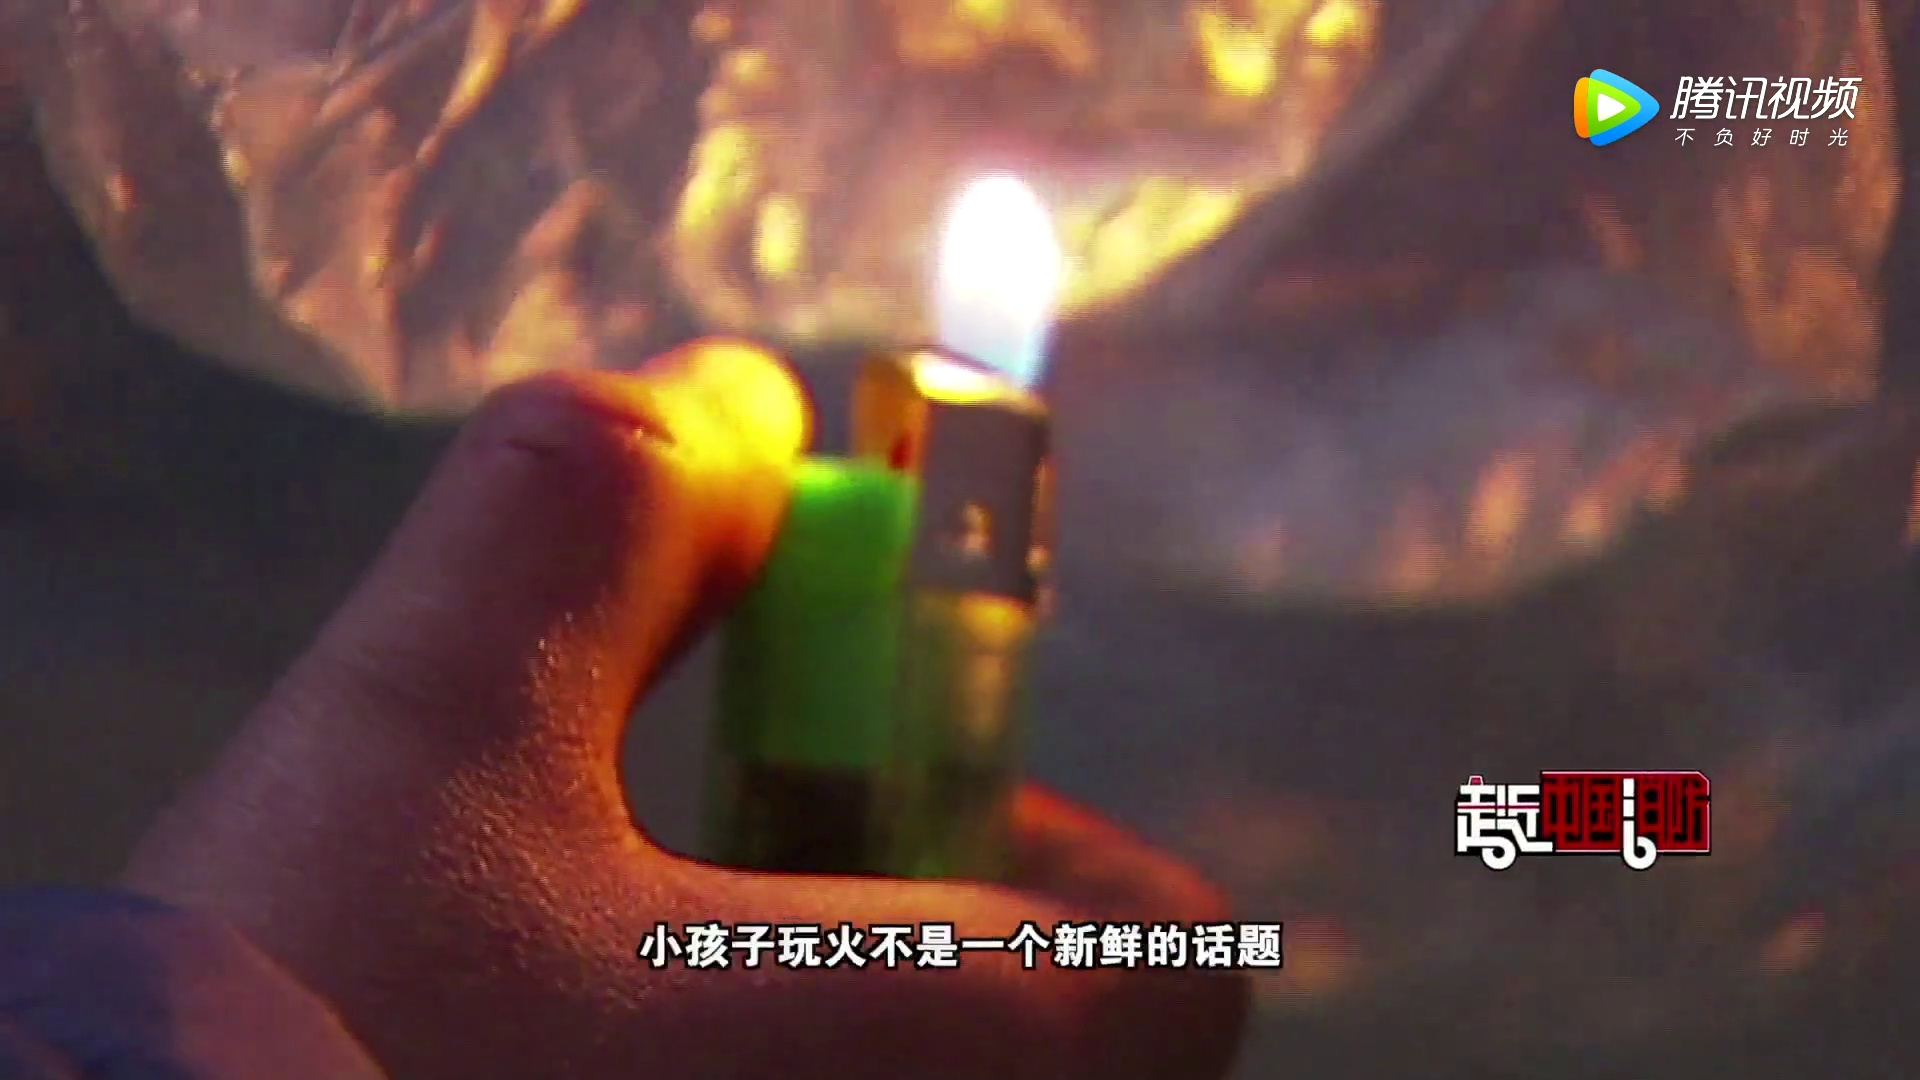fire: (919, 145, 1075, 401)
